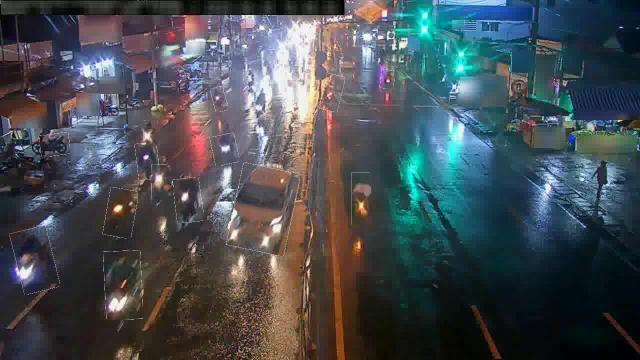Bike: (13, 227, 57, 293), (105, 250, 144, 320), (105, 188, 137, 238), (174, 178, 202, 222), (352, 173, 370, 225), (321, 74, 344, 112), (136, 142, 158, 180), (212, 133, 238, 164), (40, 134, 70, 156), (152, 164, 166, 200), (250, 93, 268, 120), (212, 87, 228, 112), (144, 121, 158, 146), (380, 70, 394, 88), (244, 70, 258, 84)
Car: (230, 166, 296, 255)
